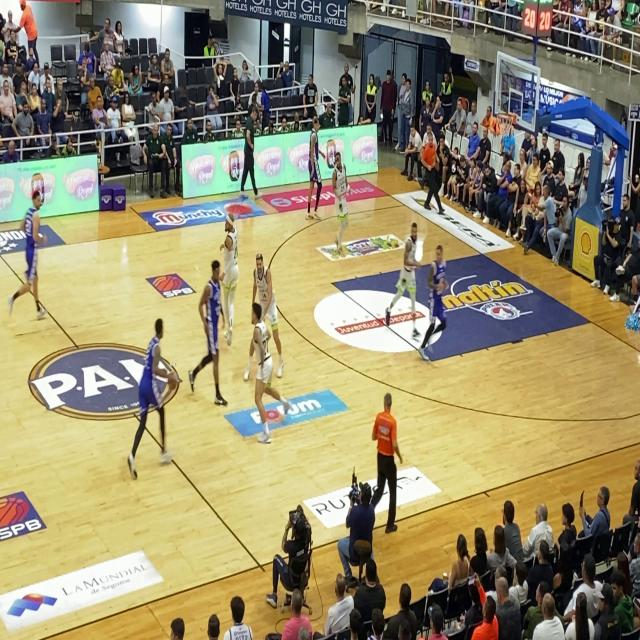Ball: (164, 365, 181, 397)
referee: (370, 385, 404, 544), (414, 123, 445, 222)
team1: (242, 296, 288, 447), (385, 216, 420, 352), (208, 209, 238, 353), (324, 151, 352, 261), (247, 244, 271, 306)
team2: (124, 316, 174, 482), (6, 184, 55, 327), (187, 254, 224, 432), (420, 238, 453, 368), (305, 113, 324, 223)
ubasket: (497, 110, 514, 141)
